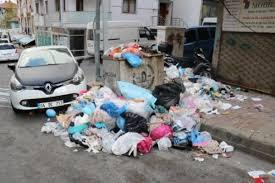Container: (99, 54, 165, 92)
Garbage: (82, 91, 108, 142), (195, 137, 239, 164), (117, 77, 156, 104), (152, 83, 187, 110), (170, 105, 203, 132), (103, 43, 157, 57), (74, 126, 99, 156), (43, 120, 76, 142), (103, 133, 126, 162), (154, 128, 187, 148), (133, 135, 159, 156), (201, 76, 223, 99), (73, 112, 97, 133), (191, 94, 211, 114), (147, 118, 169, 136), (91, 101, 109, 122), (248, 166, 270, 183), (213, 99, 239, 112), (122, 53, 144, 68), (181, 69, 194, 90), (228, 89, 246, 103), (164, 63, 179, 79), (70, 107, 79, 118), (136, 43, 142, 53), (119, 46, 128, 52), (258, 104, 264, 111)
